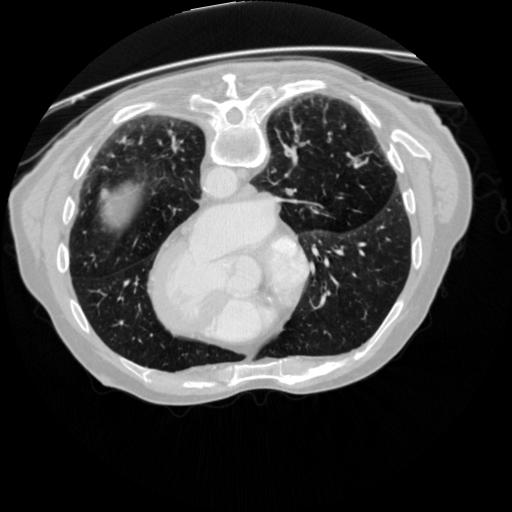nodule: (98, 187, 112, 201)
